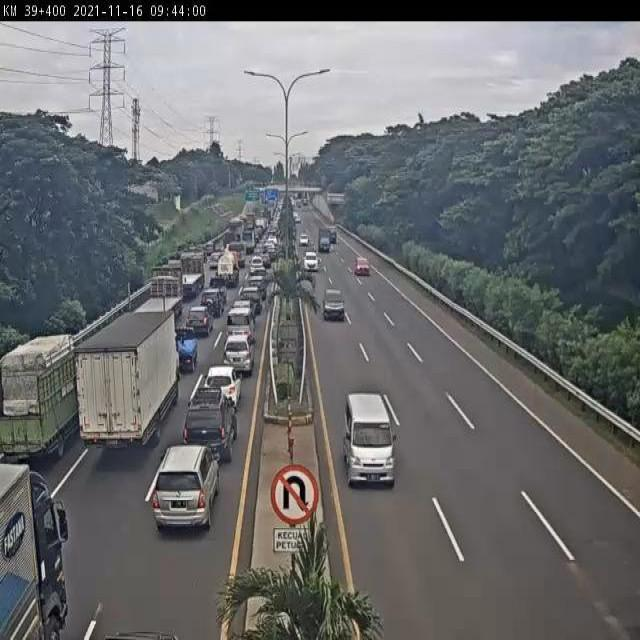car: (152, 445, 220, 532), (342, 391, 397, 488), (185, 392, 240, 465), (202, 369, 240, 407), (173, 324, 200, 368), (222, 335, 252, 373), (227, 302, 253, 342), (185, 303, 212, 337), (199, 287, 224, 320), (324, 287, 346, 320), (239, 285, 263, 315), (232, 300, 255, 321), (353, 255, 371, 280), (304, 252, 319, 272)
truck-l-: (138, 264, 185, 315), (177, 253, 206, 299)
truck-m-: (72, 310, 178, 454), (0, 333, 86, 458), (212, 245, 242, 288)
